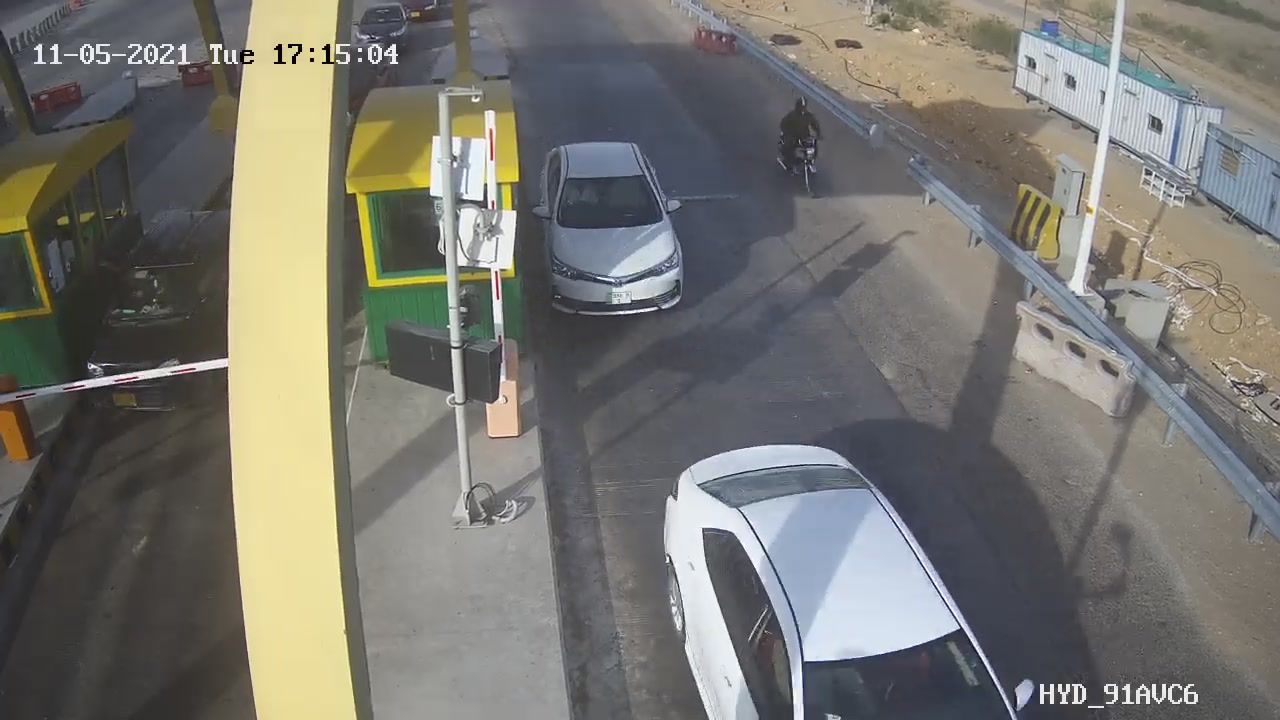F1: (516, 125, 703, 335)
